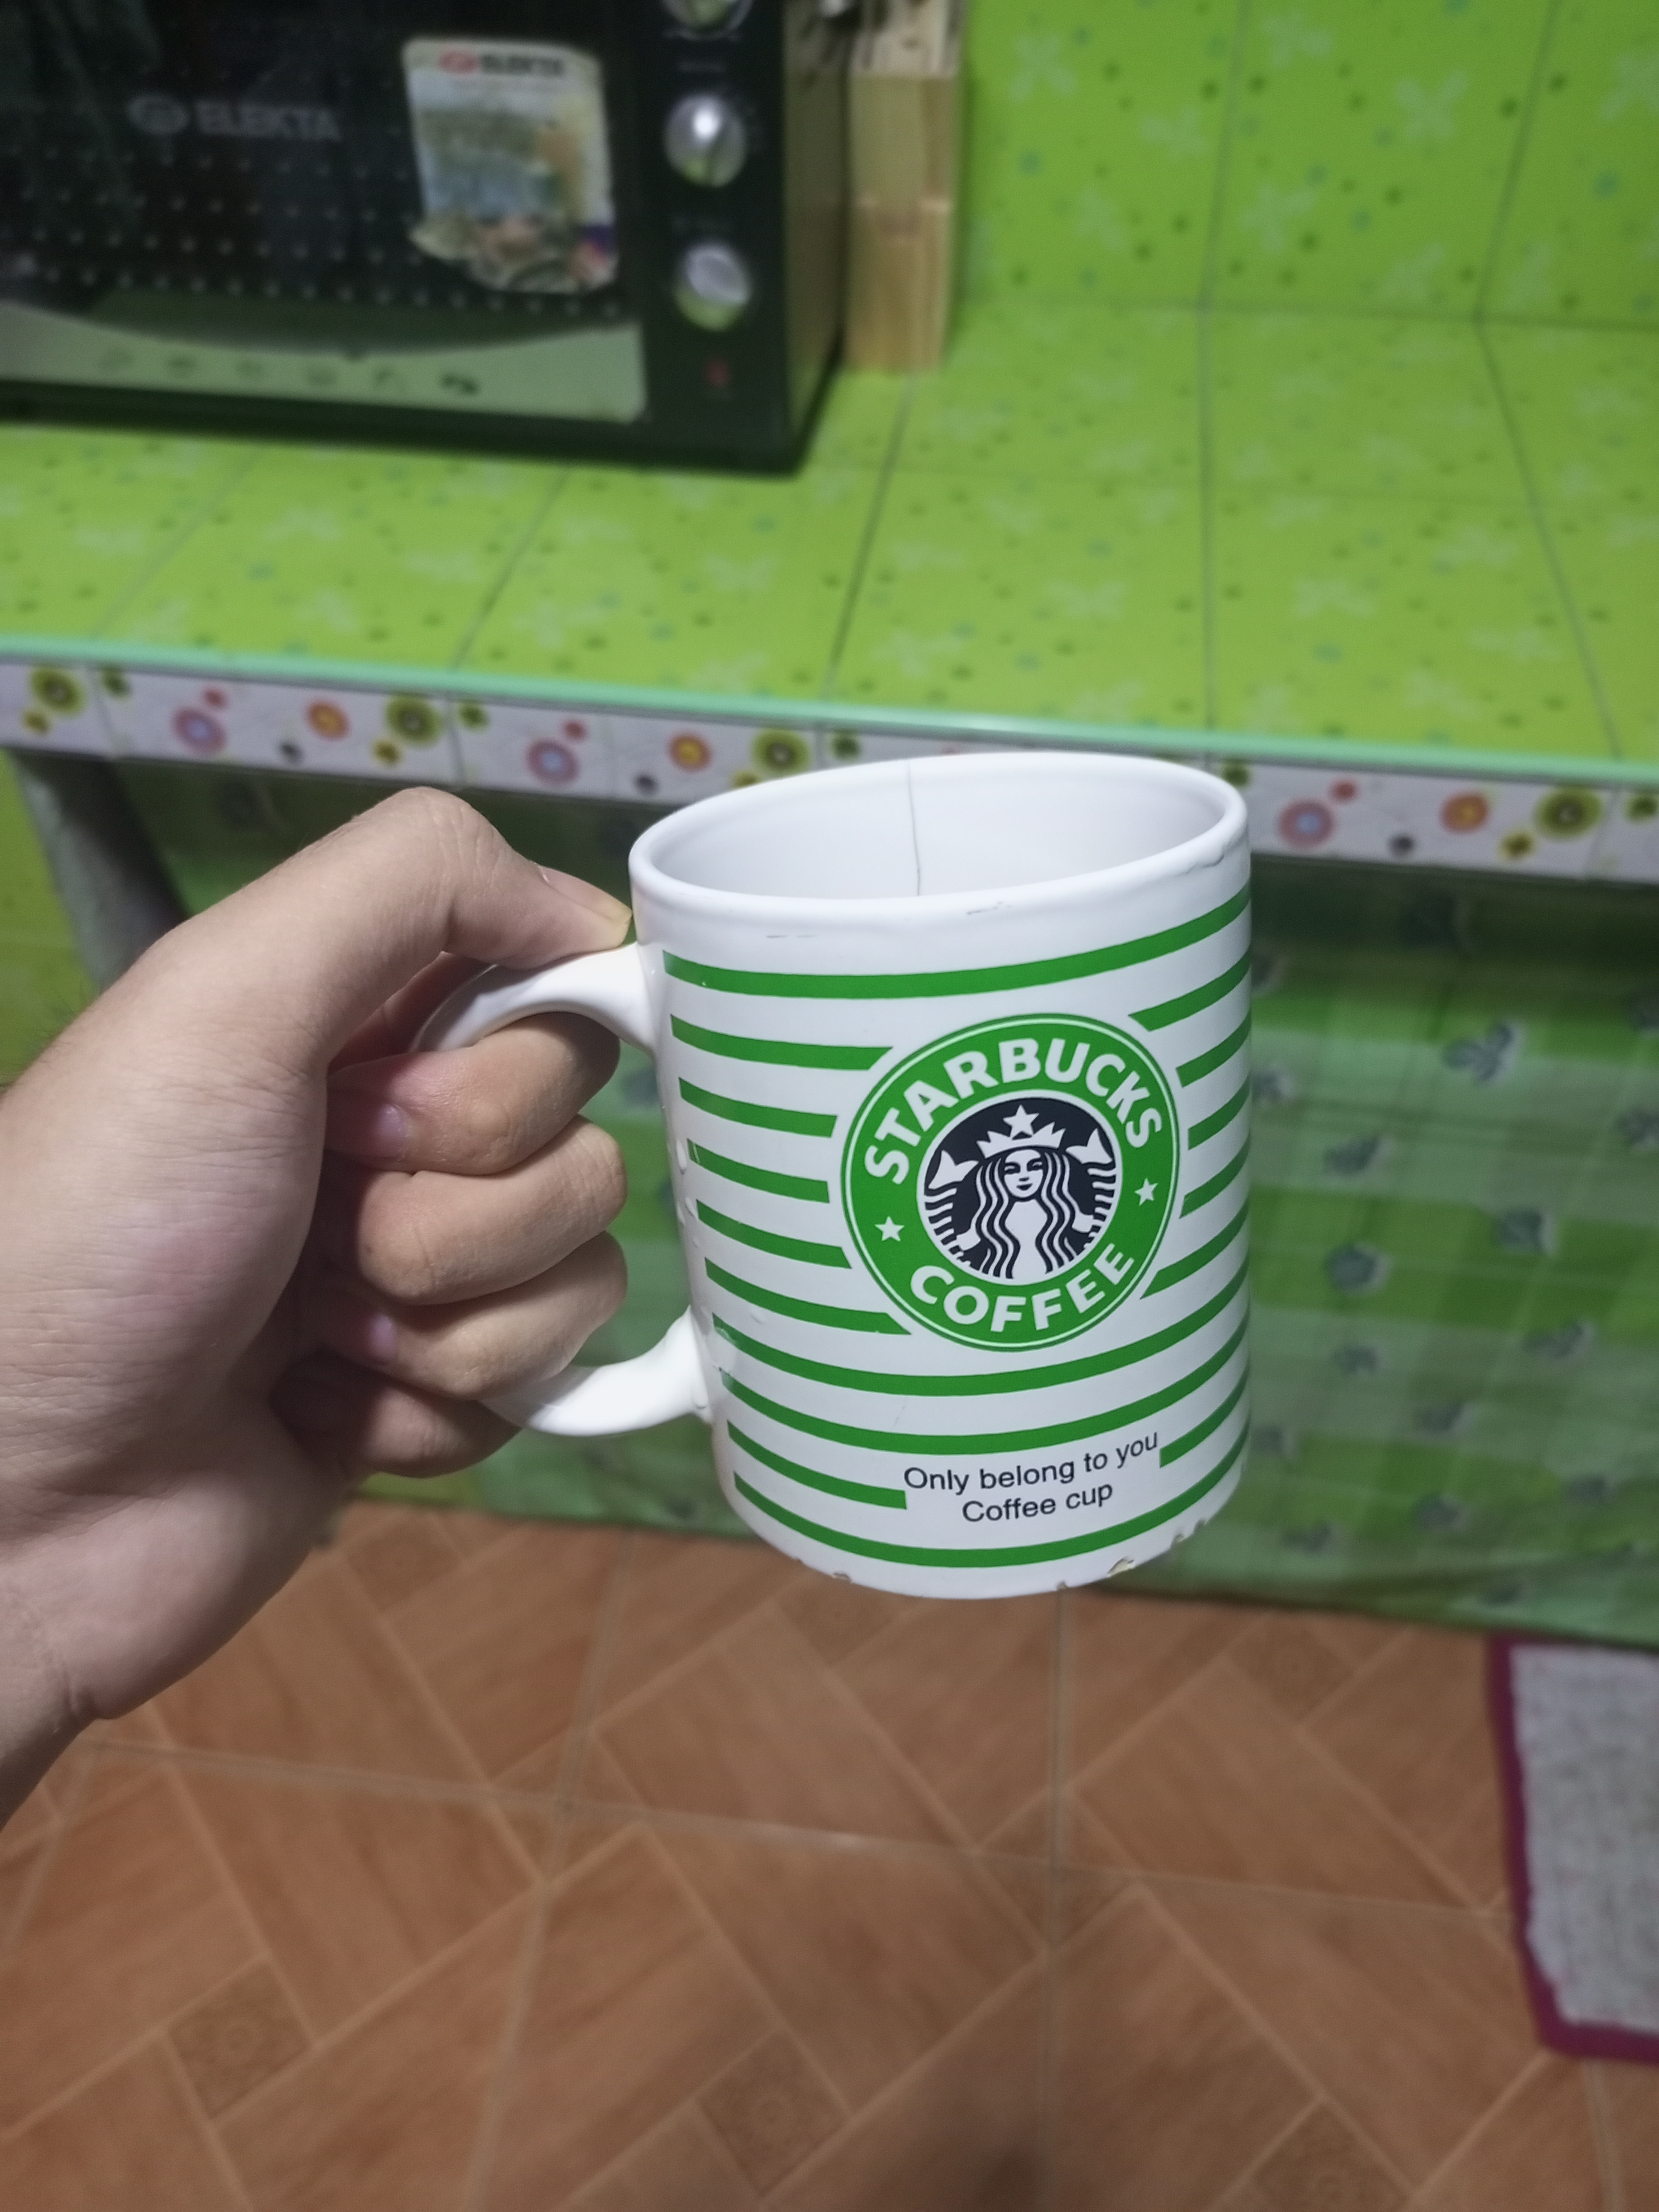mug: (403, 758, 1269, 1597)
